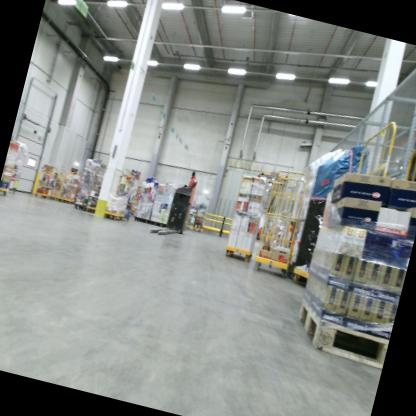pallet: (288, 299, 394, 373)
pallet_truck: (147, 173, 203, 248)
